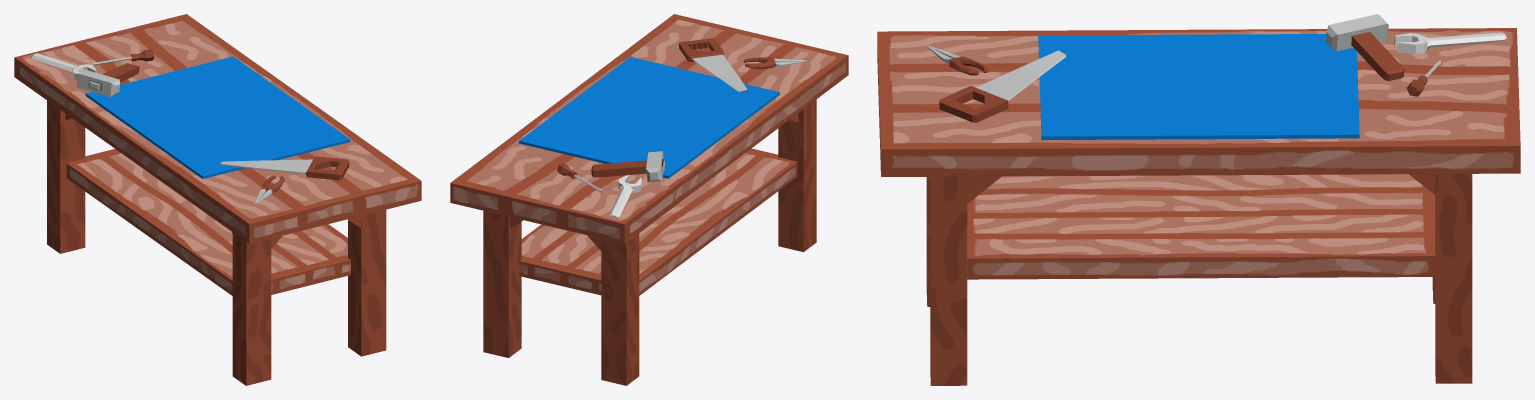
Rendered from unbuiltWorkshop.fbx.
3 renders of one model, left to right at view 1: azimuth 30°, elevation 25°; view 2: azimuth 150°, elevation 25°; view 3: azimuth 270°, elevation 25°, orthographic. The views are drawn at different scales.
Parts seen in each view (by area): view 1: Workbench, Blueprint, Part_015, Part_017, Part_026, Saw, Part_019, Part_002, Part_094, Part_029, Part_016, Hammer (+25 smaller); view 2: Workbench, Blueprint, Part_026, Part_015, Part_025, Saw, Part_019, Hammer, Part_098, Part_017, Part_013, Part_094 (+24 smaller); view 3: Workbench, Blueprint, Part_017, Part_025, Part_019, Saw, Part_090, Part_095, Hammer, Part_092, Wrench, Part_084 (+24 smaller).
Boxes of the visible parts, left/top/right/bottom form: Workbench: left=14, top=14, right=421, bottom=385; Blueprint: left=85, top=56, right=350, bottom=178; Part_015: left=47, top=147, right=148, bottom=236; Part_017: left=76, top=161, right=183, bottom=214; Part_026: left=171, top=248, right=253, bottom=318; Saw: left=220, top=156, right=349, bottom=180; Part_019: left=158, top=210, right=232, bottom=247; Part_002: left=348, top=311, right=386, bottom=356; Part_094: left=130, top=137, right=199, bottom=208; Part_029: left=282, top=232, right=376, bottom=278; Part_016: left=348, top=268, right=386, bottom=321; Hammer: left=76, top=63, right=139, bottom=96; Workbench: left=450, top=14, right=848, bottom=385; Blueprint: left=519, top=57, right=779, bottom=178; Part_026: left=733, top=134, right=816, bottom=224; Part_015: left=626, top=241, right=710, bottom=344; Part_025: left=699, top=138, right=787, bottom=194; Saw: left=679, top=38, right=747, bottom=91; Part_019: left=665, top=188, right=741, bottom=223; Hammer: left=591, top=151, right=665, bottom=182; Part_098: left=662, top=137, right=735, bottom=210; Part_017: left=584, top=227, right=676, bottom=270; Part_013: left=778, top=176, right=816, bottom=211; Part_094: left=723, top=97, right=800, bottom=159; Workbench: left=877, top=28, right=1520, bottom=385; Blueprint: left=1038, top=34, right=1359, bottom=139; Part_017: left=1248, top=174, right=1393, bottom=211; Part_025: left=967, top=176, right=1111, bottom=213; Part_019: left=1099, top=175, right=1205, bottom=212; Saw: left=939, top=50, right=1066, bottom=122; Part_090: left=998, top=147, right=1204, bottom=168; Part_095: left=1204, top=146, right=1428, bottom=164; Hammer: left=1326, top=14, right=1404, bottom=80; Part_092: left=878, top=69, right=971, bottom=89; Wrench: left=1394, top=32, right=1506, bottom=54; Part_084: left=878, top=41, right=950, bottom=70.
Size of the model in its own units: 111 by 116 by 248.
Materials: 11 (9 with a texture image).
